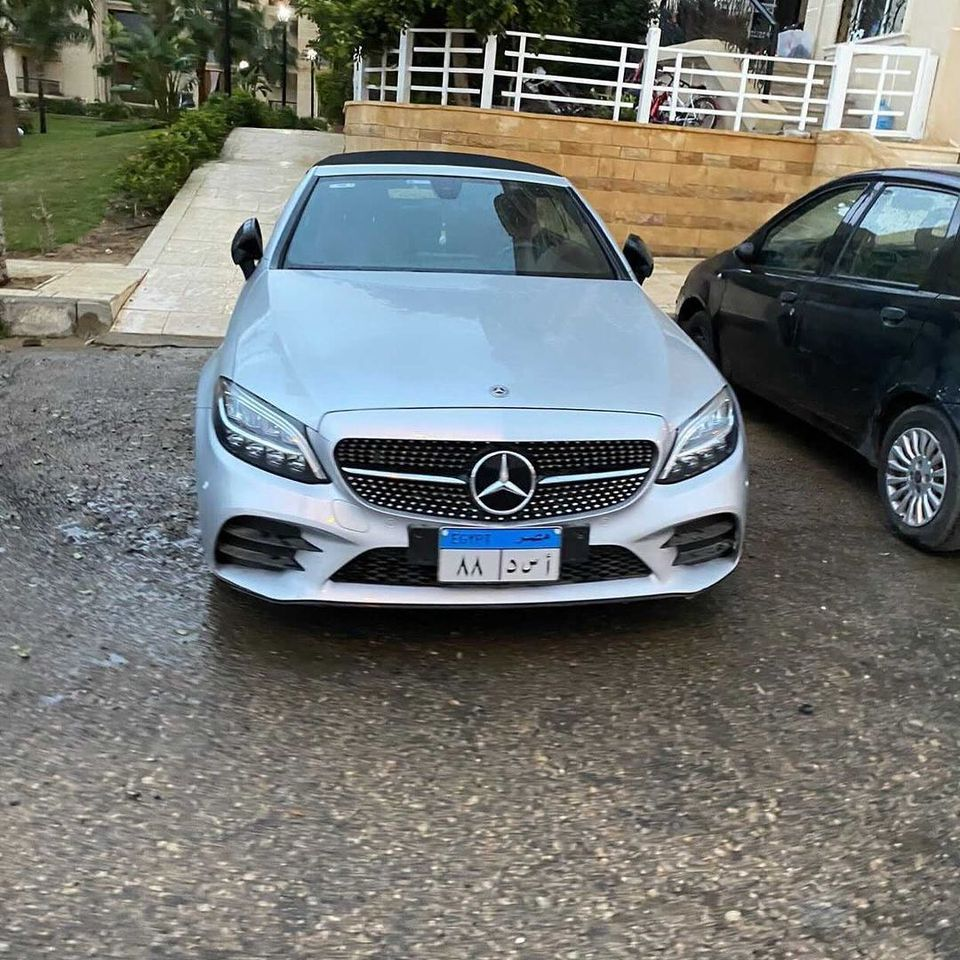carpl: (439, 525, 564, 586)
